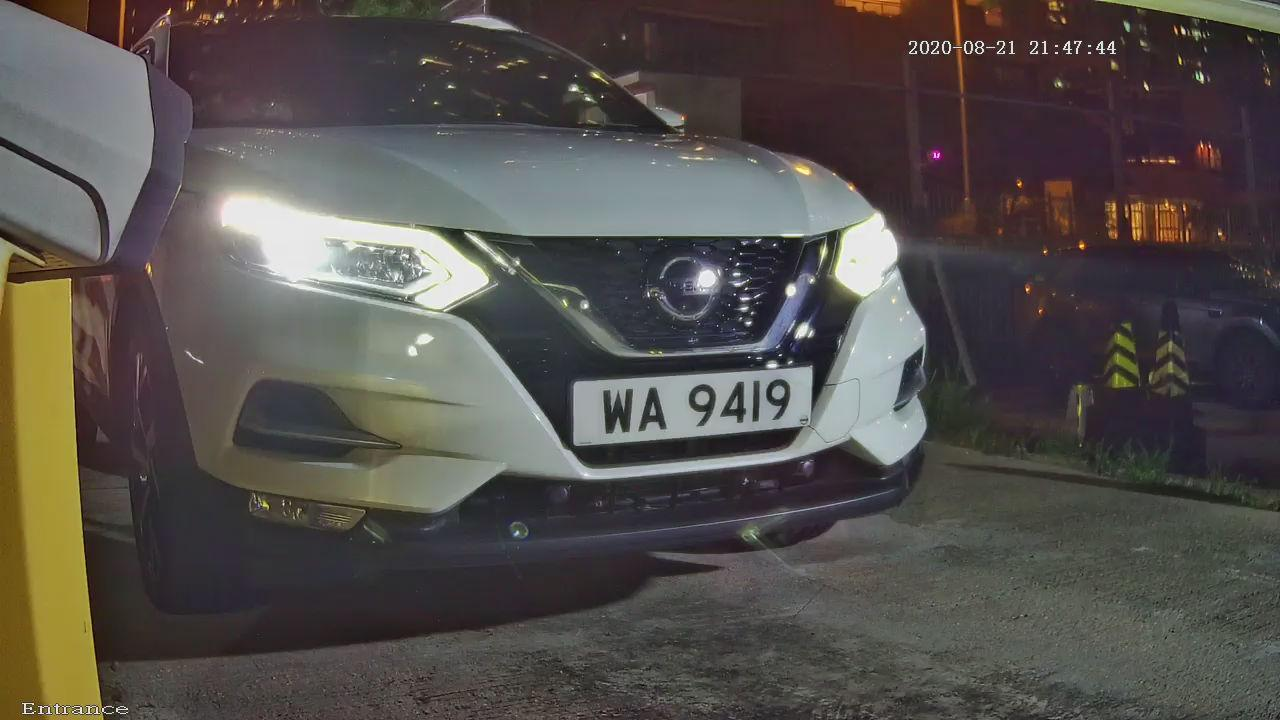Car: (58, 13, 978, 611)
License Plate: (566, 361, 829, 454)
